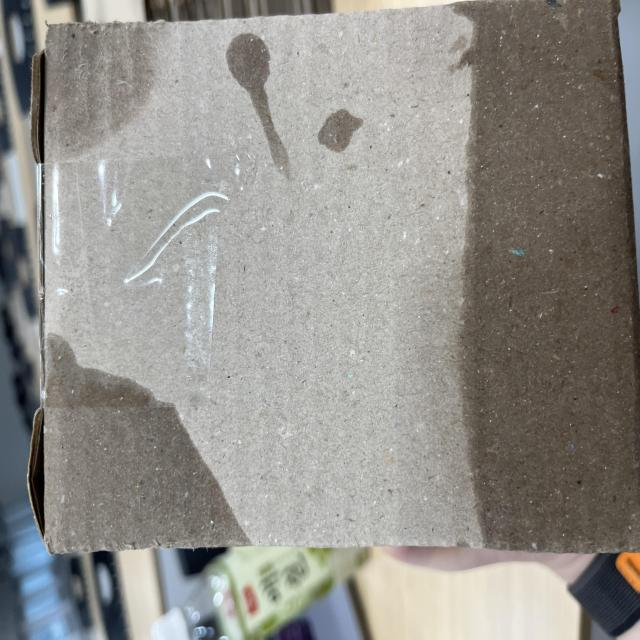wet: (44, 44, 480, 640)
